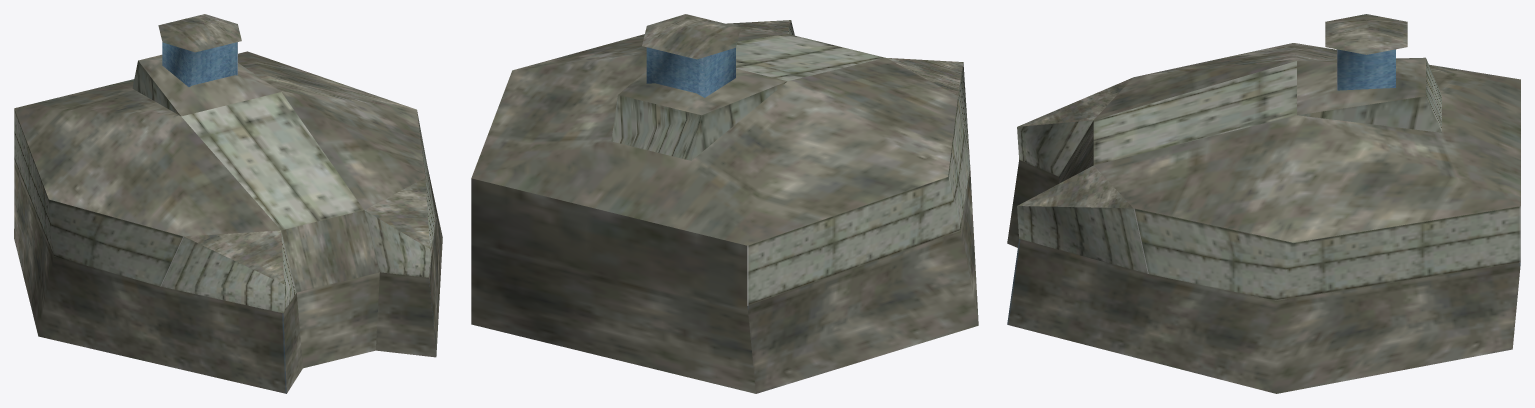
The model's file is ins_all_creature_farm_s01_u0_l2.fbx.
The picture shows the model from 3 angles, left to right: view 1: azimuth 30°, elevation 25°; view 2: azimuth 150°, elevation 25°; view 3: azimuth 270°, elevation 25°; orthographic projection. The views are drawn at different scales.
Visible parts, largest first — view 1: mesh_node; view 2: mesh_node; view 3: mesh_node.
Part boxes in pixels (x1,y1,x2,y2): mesh_node: [14, 14, 442, 393]; mesh_node: [471, 14, 978, 393]; mesh_node: [1007, 14, 1520, 393].
Size of the model in its own units: 12.5 by 6.88 by 12.35.
Materials: 2 (2 with a texture image).
